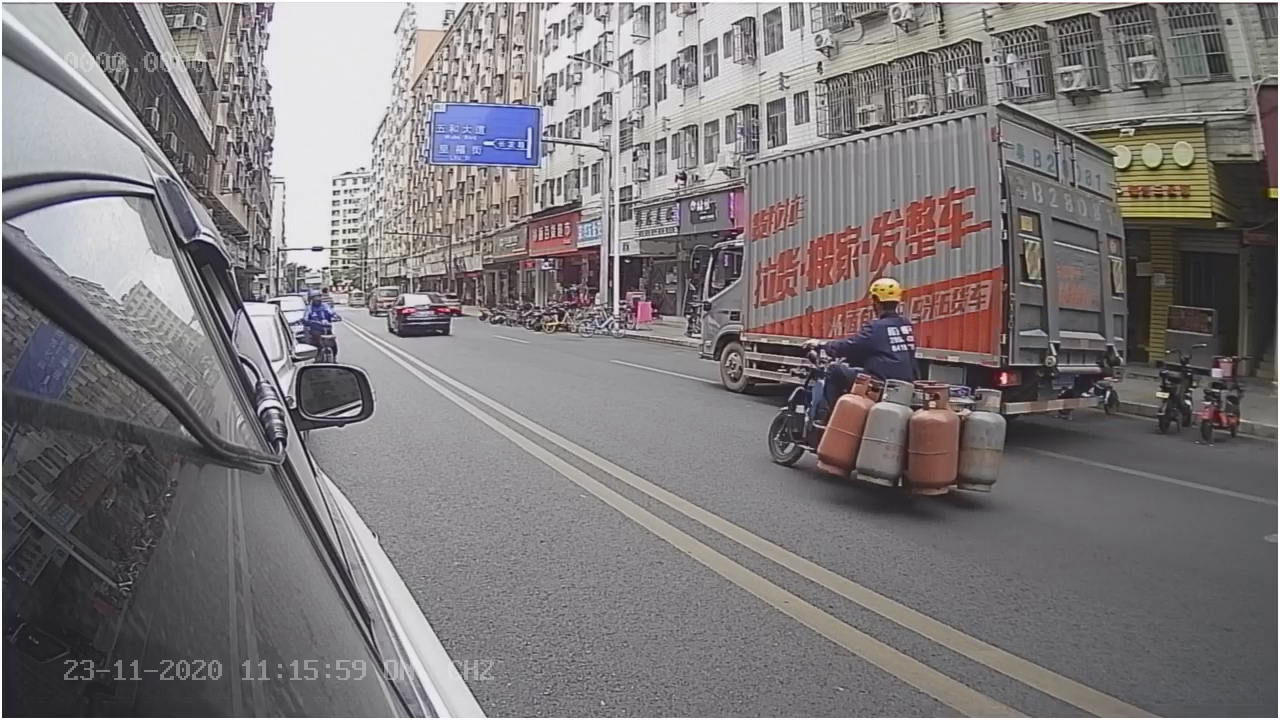person: (841, 276, 922, 380)
